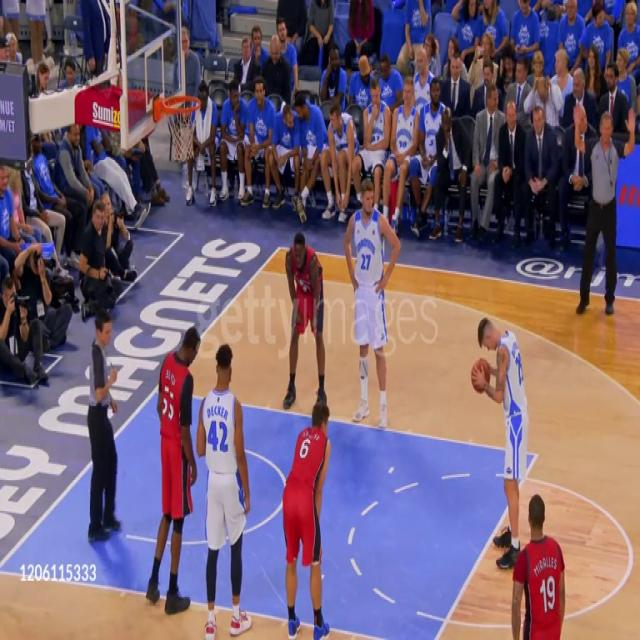ball: (470, 357, 490, 394)
